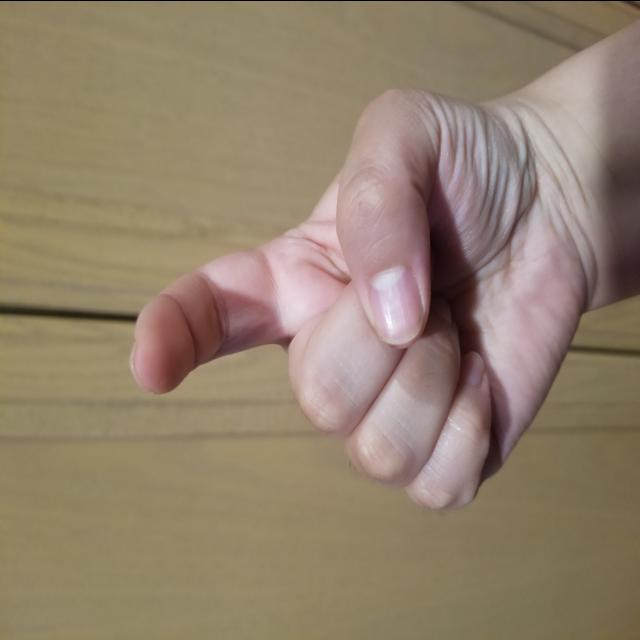X: (123, 76, 597, 520)
